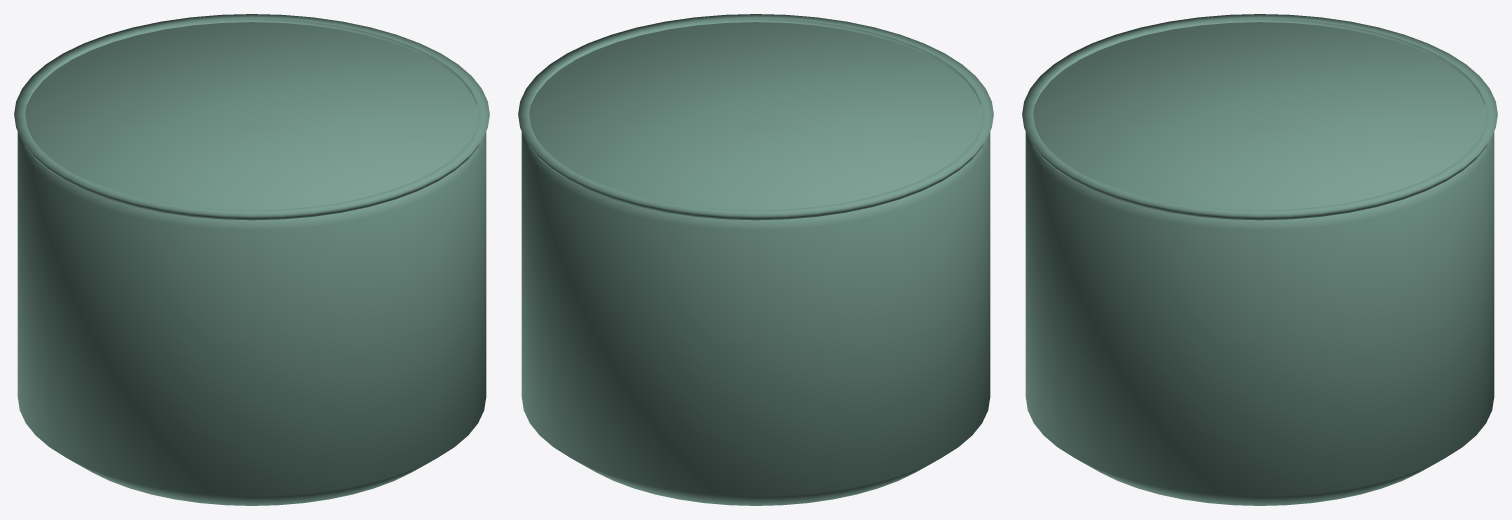
Rendered from vial-liquid.glb.
3 views of the same model, side by side, from view 1: azimuth 30°, elevation 25°; view 2: azimuth 150°, elevation 25°; view 3: azimuth 270°, elevation 25° (orthographic).
Parts seen in each view (by area): view 1: Vial_liquid, Liquid meniscus; view 2: Vial_liquid, Liquid meniscus; view 3: Vial_liquid, Liquid meniscus.
Boxes of the visible parts, x1,y1,x2,y2 form: Vial_liquid: (17, 22, 486, 505); Liquid meniscus: (14, 14, 489, 220); Vial_liquid: (521, 22, 990, 505); Liquid meniscus: (518, 14, 993, 220); Vial_liquid: (1025, 22, 1494, 505); Liquid meniscus: (1022, 14, 1497, 220).
Bounding box in the file's own units: 0.128 × 0.091 × 0.128.
